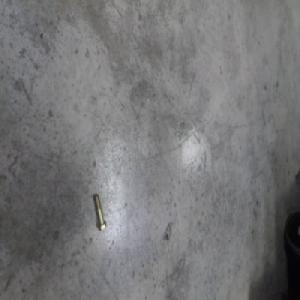Bolt: (93, 192, 107, 233)
